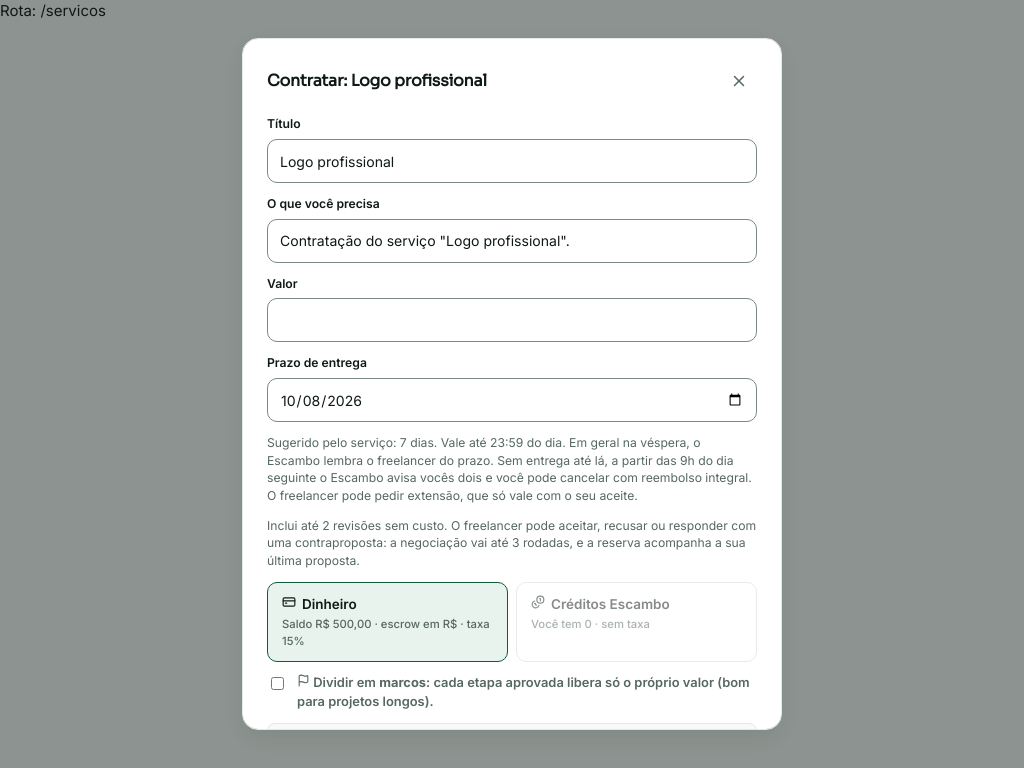
Scenario: ContratarModal: proposta em dinheiro › serviço "a combinar" abre sem valor, e sem valor não dá para enviar
Type "120" into the number field labelled "Valor".
click(512, 320); type("120")  # box [267,298,757,342]
(page scrolled)
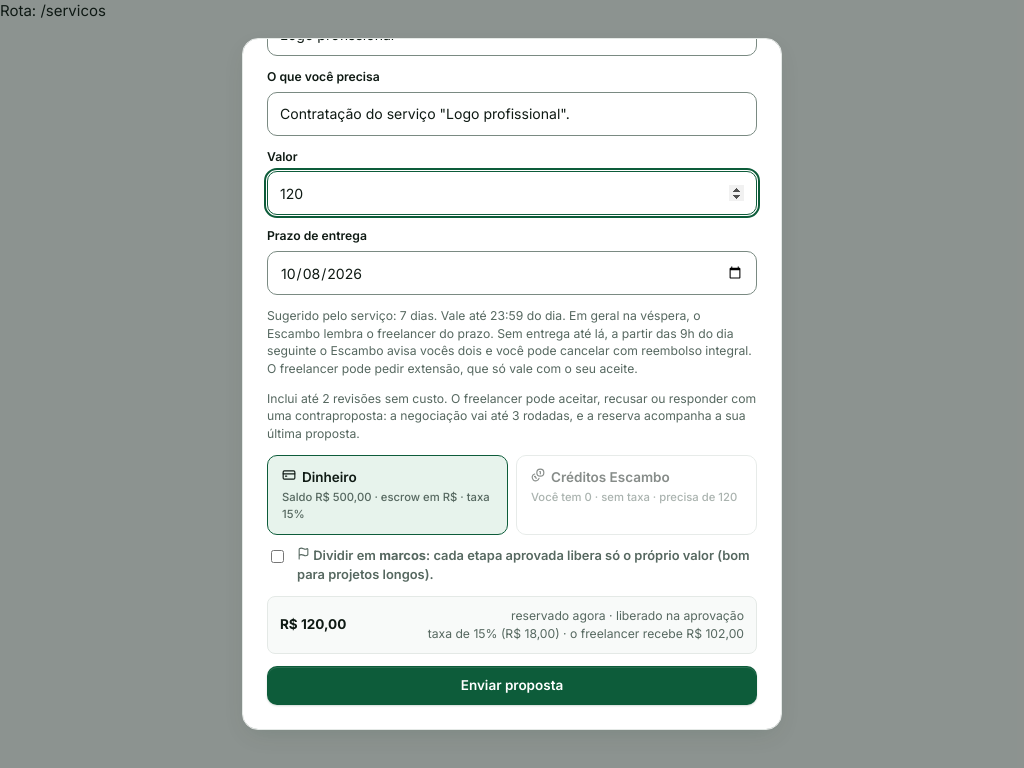
Check: the button "Enviar proposta" is enabled, box [267,666,757,705]
